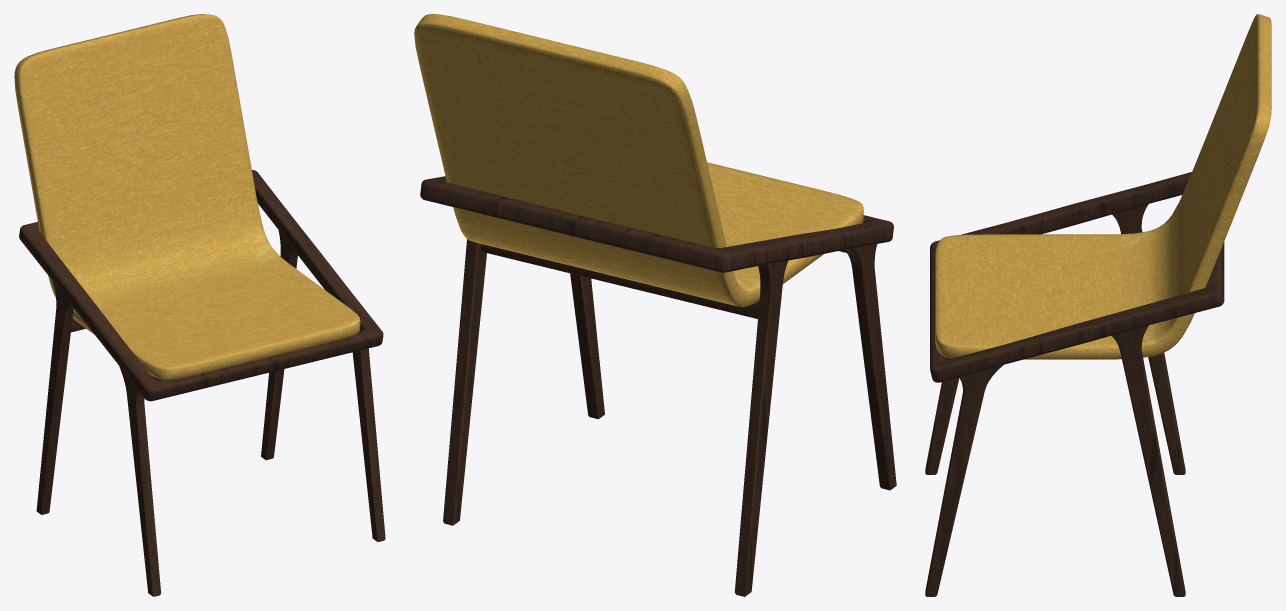
File: scaun-sezlong.glb
The picture shows the model from 3 angles, left to right: view 1: azimuth 30°, elevation 25°; view 2: azimuth 150°, elevation 25°; view 3: azimuth 270°, elevation 25°; orthographic projection. The views are drawn at different scales.
Parts seen in each view (by area): view 1: mykonos chair_mykonos chair_0; view 2: mykonos chair_mykonos chair_0; view 3: mykonos chair_mykonos chair_0.
Boxes of the visible parts, bbox=[...] form: mykonos chair_mykonos chair_0: bbox=[14, 14, 385, 596]; mykonos chair_mykonos chair_0: bbox=[414, 14, 896, 596]; mykonos chair_mykonos chair_0: bbox=[925, 14, 1271, 596].
Bounding box in the file's own units: 50.29 × 85.98 × 57.06.
Materials: 1 (1 with a texture image).
